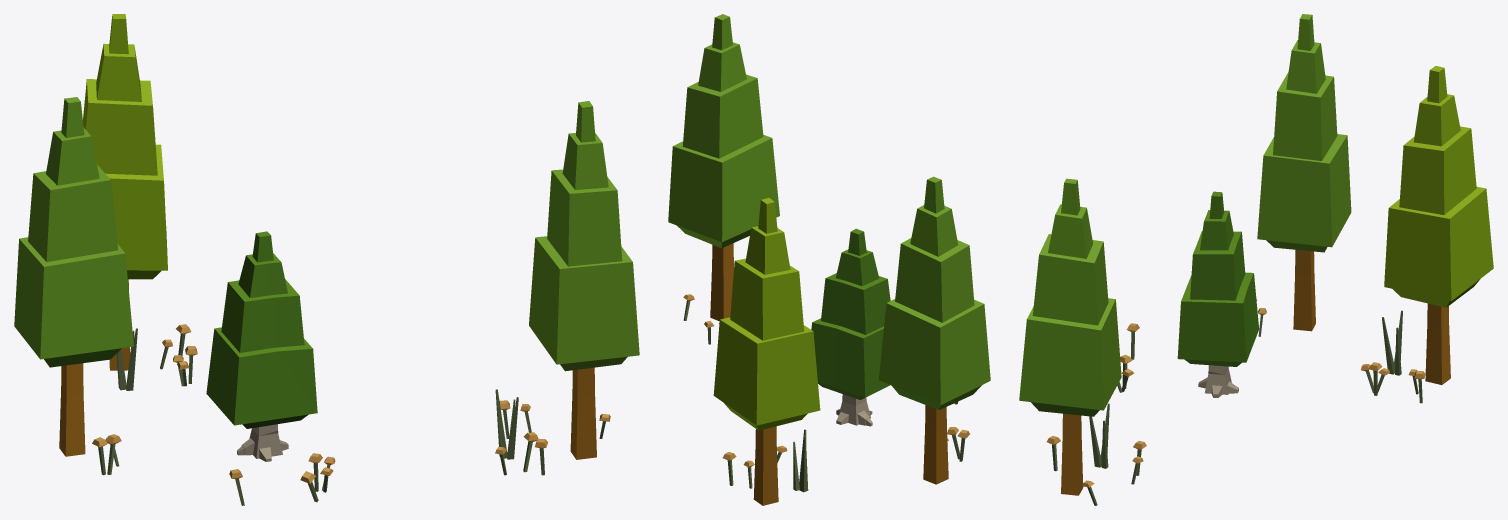
File: SF_Env_Elven_Preset_05.fbx
3 views of the same model, side by side, from view 1: azimuth 30°, elevation 25°; view 2: azimuth 150°, elevation 25°; view 3: azimuth 270°, elevation 25° (orthographic). The views are drawn at different scales.
Visible parts, largest first — view 1: SF_Env_Elven_Preset_05; view 2: SF_Env_Elven_Preset_05; view 3: SF_Env_Elven_Preset_05.
Boxes of the visible parts, x1,y1,x2,y2 form: SF_Env_Elven_Preset_05: (14, 14, 639, 505); SF_Env_Elven_Preset_05: (668, 14, 990, 505); SF_Env_Elven_Preset_05: (1019, 14, 1493, 505).
Bounding box in the file's own units: 18.03 × 12.79 × 17.64.
